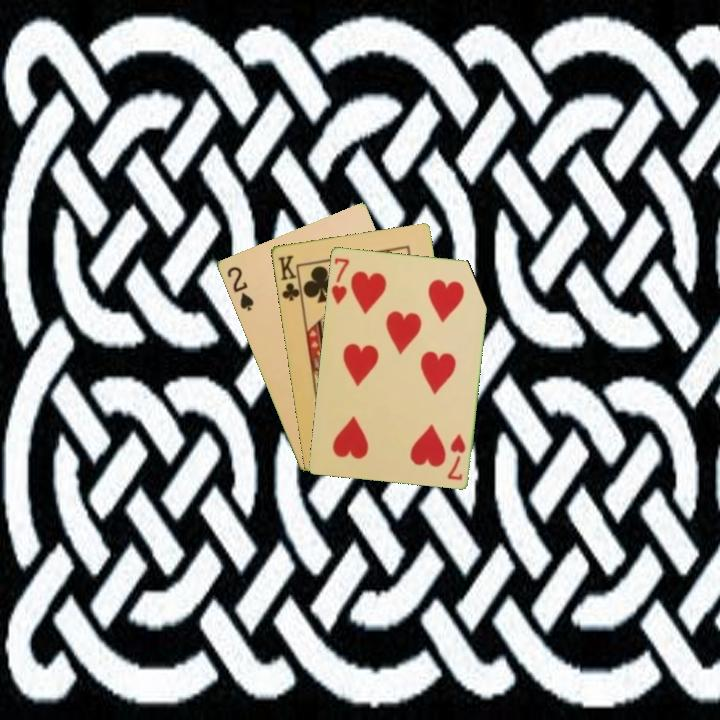2s: (223, 263, 256, 314)
7h: (443, 430, 468, 482), (328, 254, 352, 307)
Kc: (274, 252, 304, 304)
